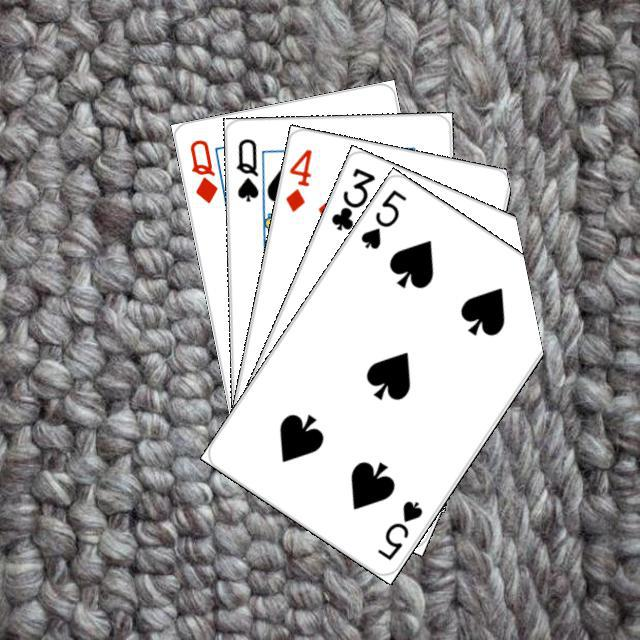3c: (326, 162, 377, 233)
4d: (280, 144, 314, 214)
5s: (355, 184, 409, 251), (372, 495, 425, 562)
Qd: (184, 134, 219, 205)
Qs: (231, 134, 260, 203)
